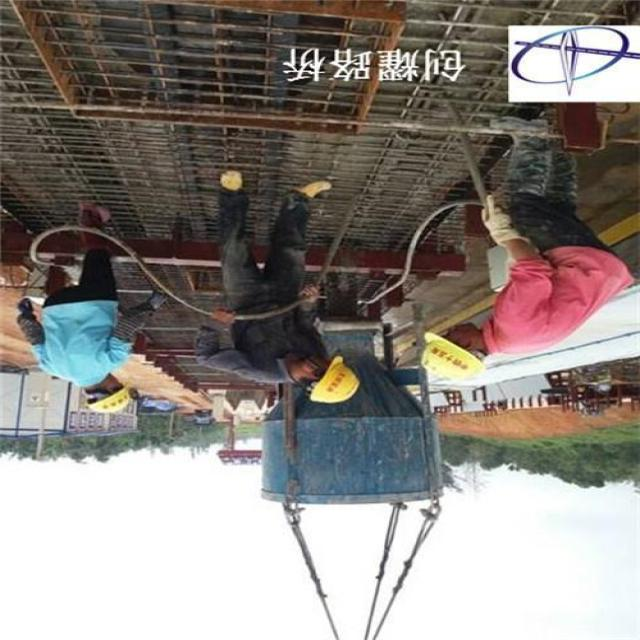helmet: (416, 327, 497, 389), (306, 359, 372, 411), (89, 383, 142, 421)
